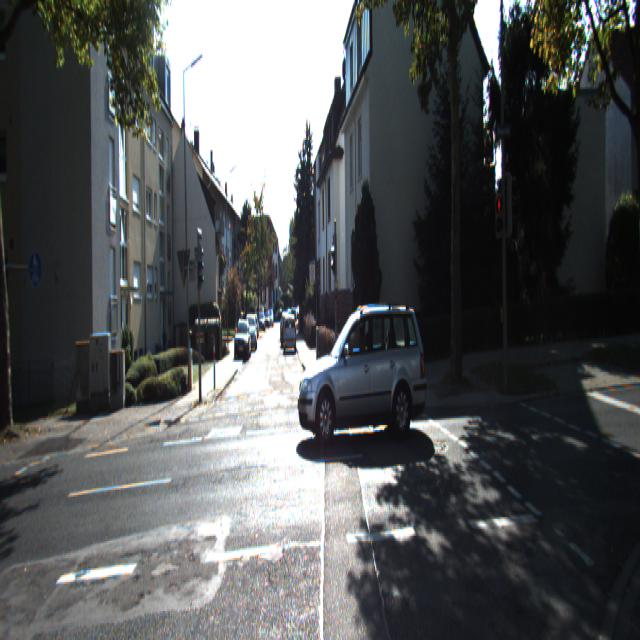Car: (298, 296, 428, 443), (234, 321, 251, 362), (282, 315, 296, 356)
